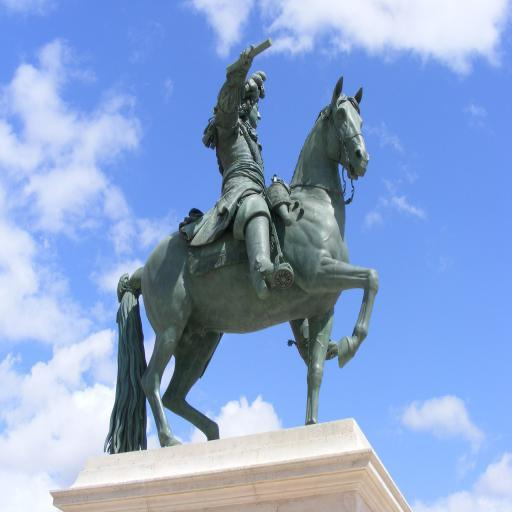Horse: (102, 76, 380, 456)
